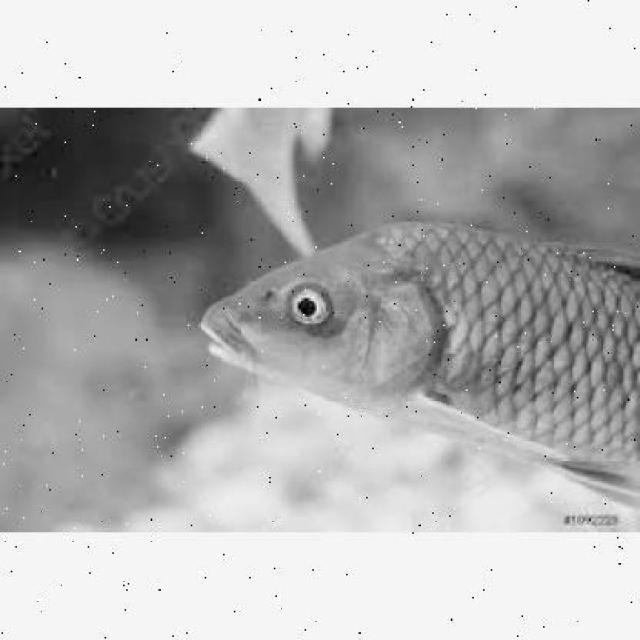ikan-mas: (198, 209, 638, 489)
